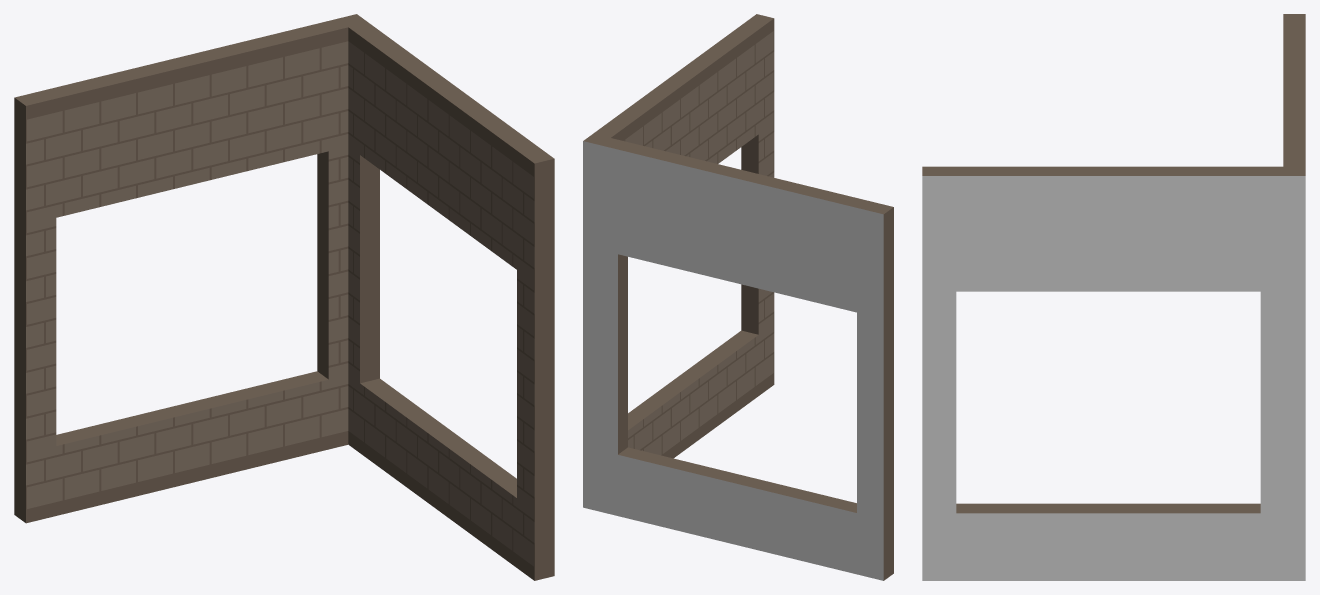
File: Wall1_C10_15.fbx
3 renders of one model, left to right at view 1: azimuth 30°, elevation 25°; view 2: azimuth 150°, elevation 25°; view 3: azimuth 270°, elevation 25°, orthographic. The views are drawn at different scales.
Parts seen in each view (by area): view 1: Wall1_C10_15; view 2: Wall1_C10_15; view 3: Wall1_C10_15.
Part boxes in pixels (x1,y1,x2,y2): Wall1_C10_15: [14, 14, 554, 580]; Wall1_C10_15: [583, 14, 893, 580]; Wall1_C10_15: [922, 14, 1305, 580].
Bounding box in the file's own units: 258 × 300 × 258.
